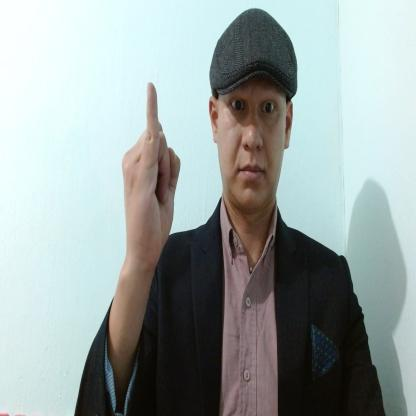I: (120, 78, 182, 260)
